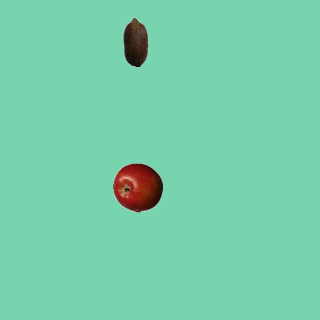Apple Braeburn: (112, 162, 162, 212)
Nut Pecan: (110, 16, 160, 66)
